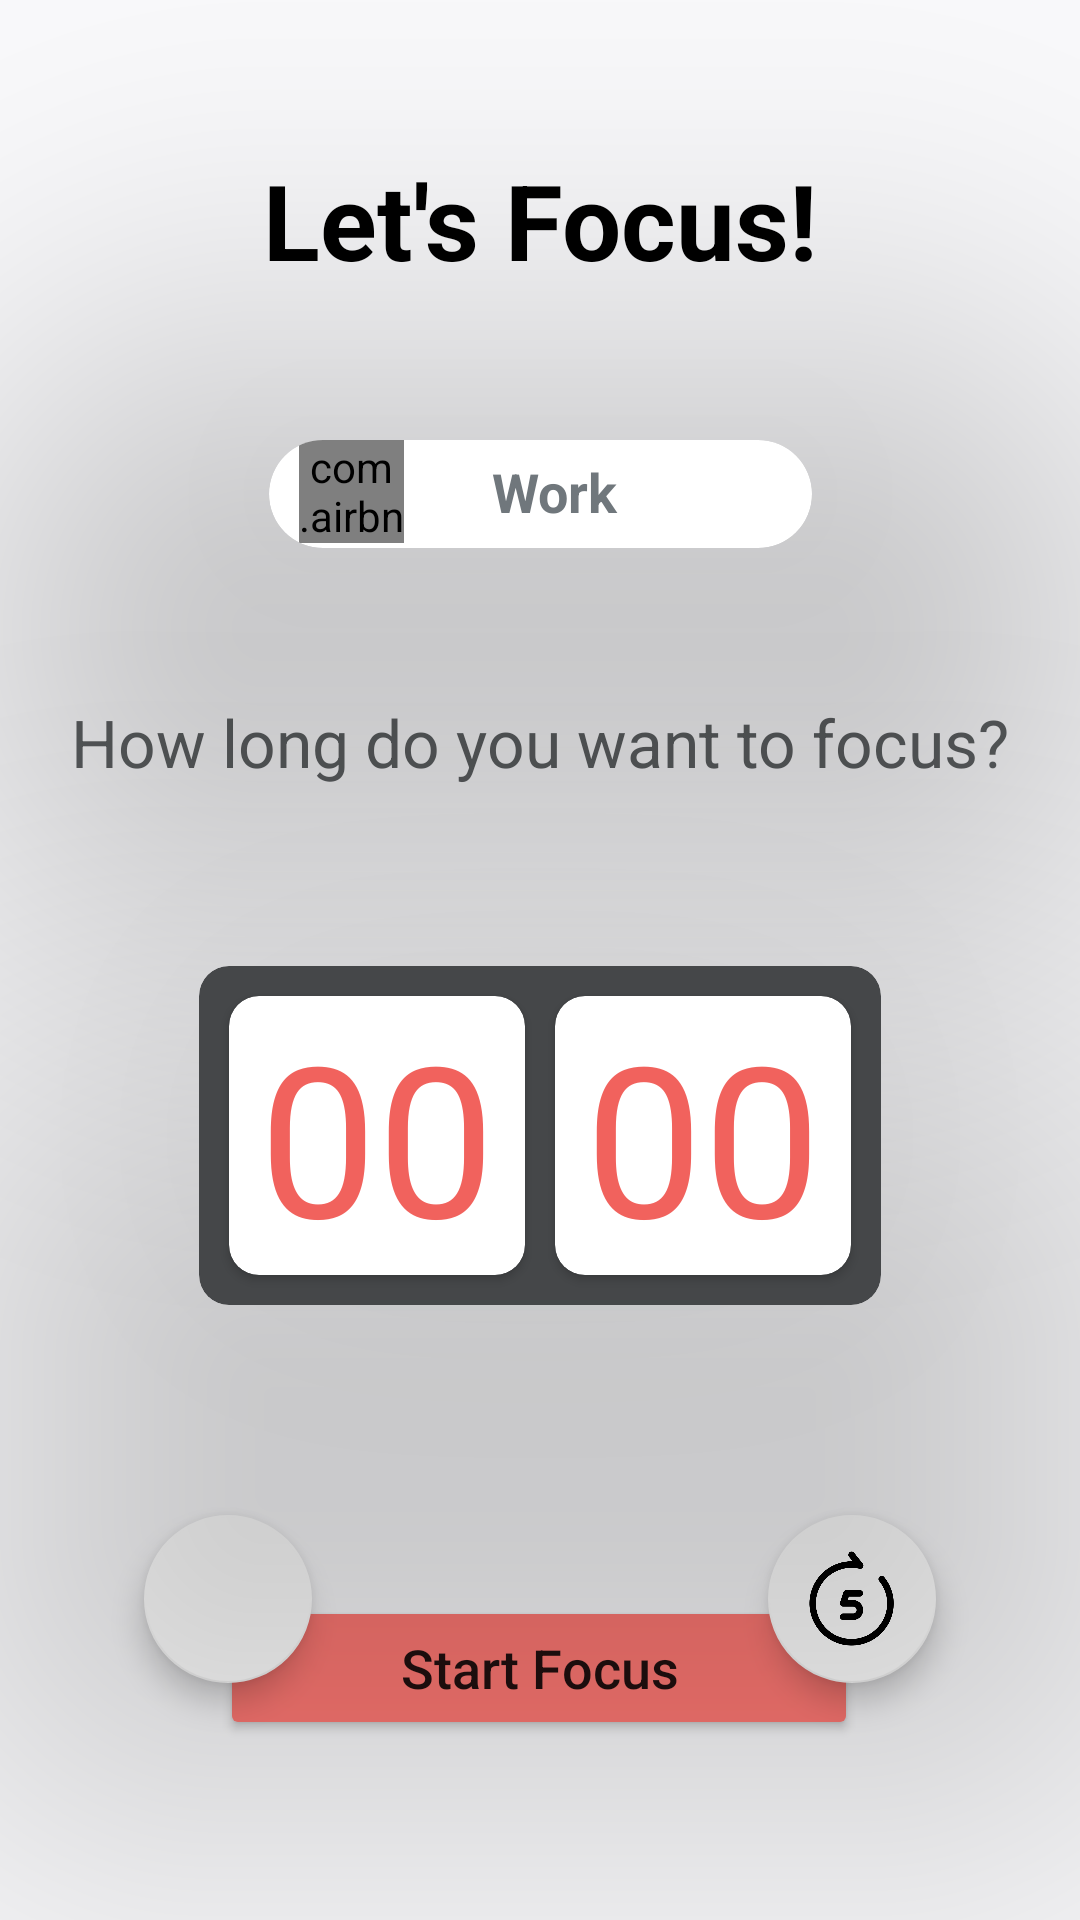

Where to tap for icons on this 1080×1920 app screen, as point (x, y):
forward: point (865, 1600)
